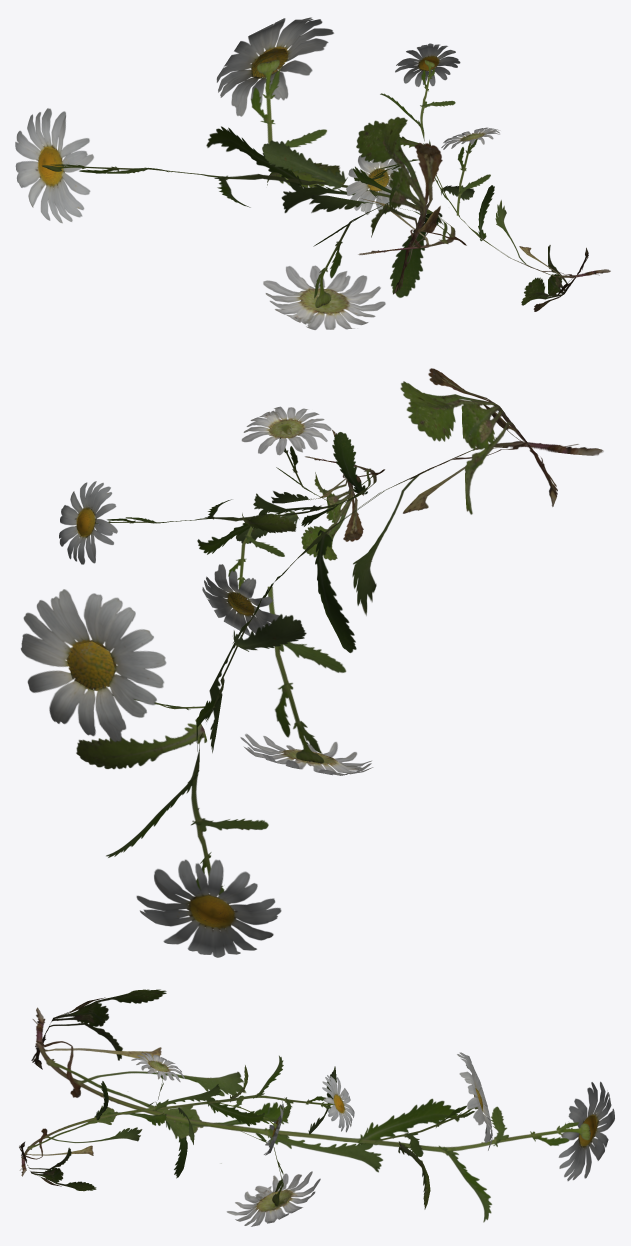
The picture shows the model from 3 angles, top to bottom: view 1: azimuth 30°, elevation 25°; view 2: azimuth 150°, elevation 25°; view 3: azimuth 270°, elevation 25°; orthographic projection. The views are drawn at different scales.
Visible parts, largest first — view 1: Plane042_Flower_0, Plane042_Flower_0.001; view 2: Plane042_Flower_0, Plane042_Flower_0.001; view 3: Plane042_Flower_0, Plane042_Flower_0.001.
Boxes of the visible parts, x1,y1,x2,y2 form: Plane042_Flower_0: (15, 17, 466, 329); Plane042_Flower_0.001: (346, 43, 610, 311); Plane042_Flower_0: (20, 368, 603, 957); Plane042_Flower_0.001: (59, 406, 384, 635); Plane042_Flower_0: (31, 989, 614, 1226); Plane042_Flower_0.001: (19, 1052, 354, 1191).
Size of the model in its own units: 0.6965 by 0.5524 by 1.3.
Materials: 1 (1 with a texture image).
